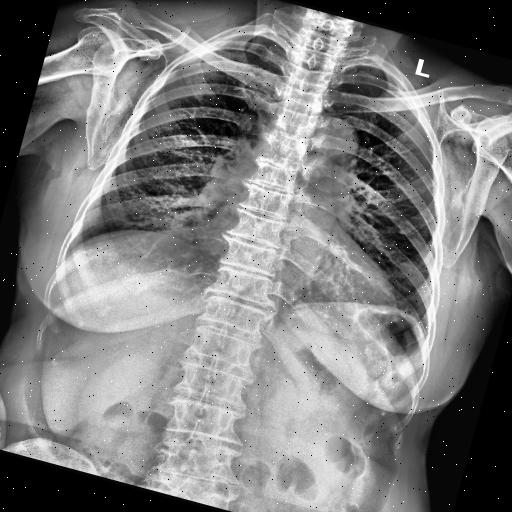0- Aortic enlargement: (297, 109, 363, 167), (305, 111, 366, 169), (306, 113, 364, 172)
3- Cardiomegaly: (182, 216, 399, 330), (186, 215, 407, 322), (186, 220, 404, 312)
